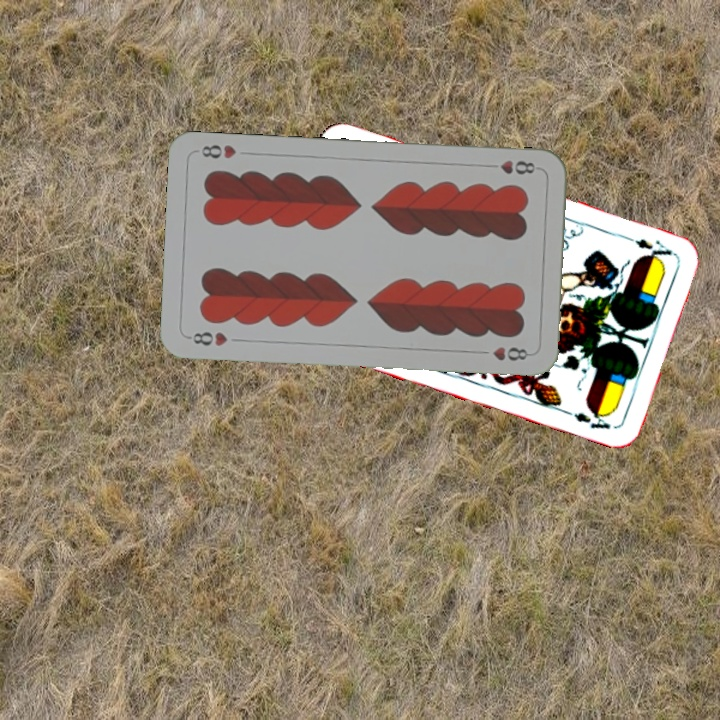EA: (618, 230, 675, 258)
H8: (483, 156, 538, 177), (184, 328, 230, 349)
